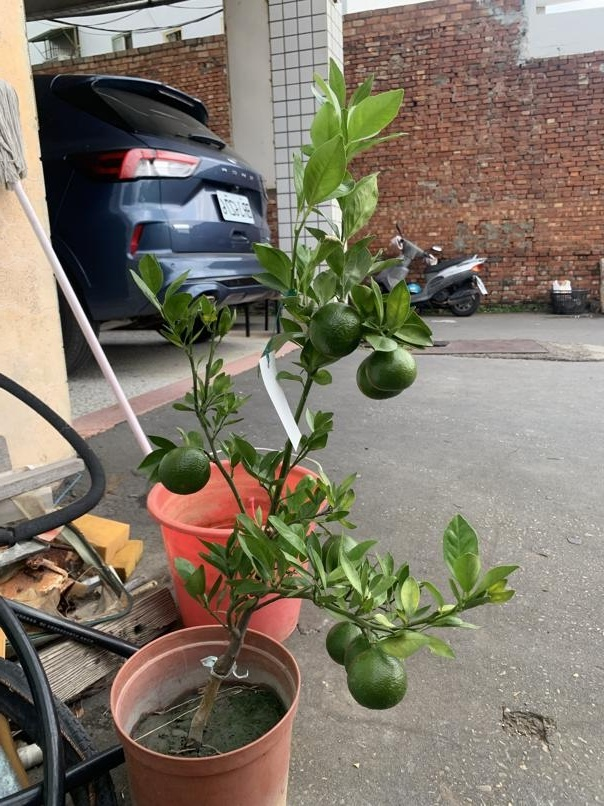Tangerine: (348, 647, 409, 710), (306, 303, 363, 360), (157, 444, 212, 496), (366, 343, 418, 393), (326, 618, 364, 665)
